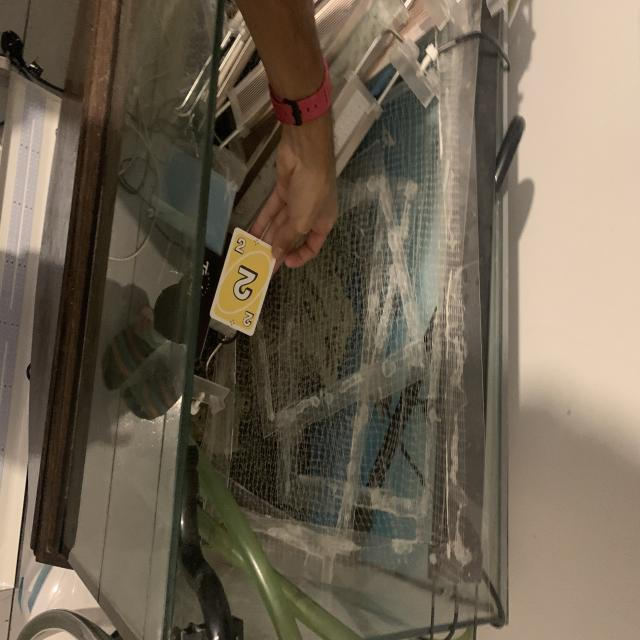lyellow-2: (232, 235, 249, 258)
